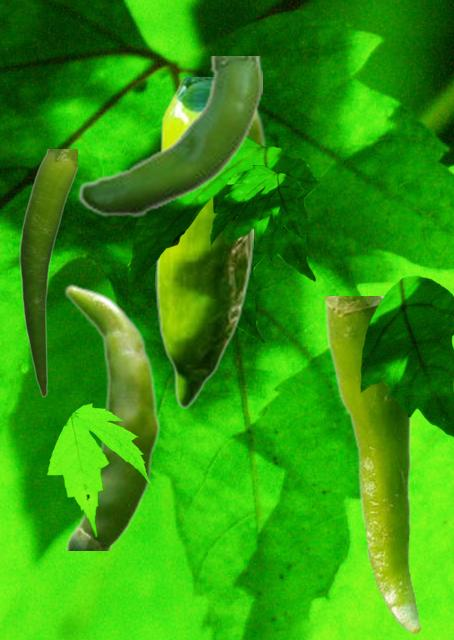green_chili: (155, 77, 252, 407), (325, 296, 419, 633), (77, 56, 261, 217), (63, 283, 160, 549), (19, 149, 76, 396), (250, 105, 266, 269)
